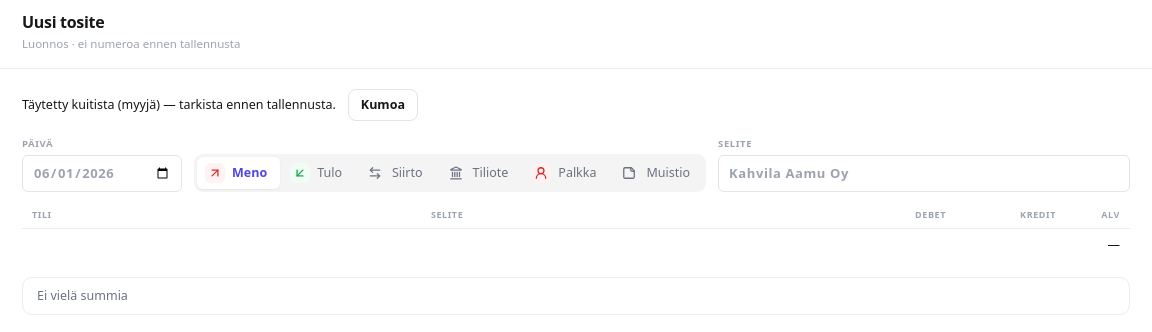
Scenario: TositeEditori — ulkoinen täyttö (kuitti) › täyttää lomakkeen, näyttää ilmoituksen ja Kumoa palauttaa
This screenshot has width=1152, height=332.
Check: the field labelled "Selite" holds "Kahvila Aamu Oy", box [718,155,1130,192]
Check: the text "Täytetty kuitista (myyjä) — tarkista ennen tallennusta." is shown, box [22,96,336,114]
Click the button "Kumoa". click: [383, 105]
box: [348,89,418,121]
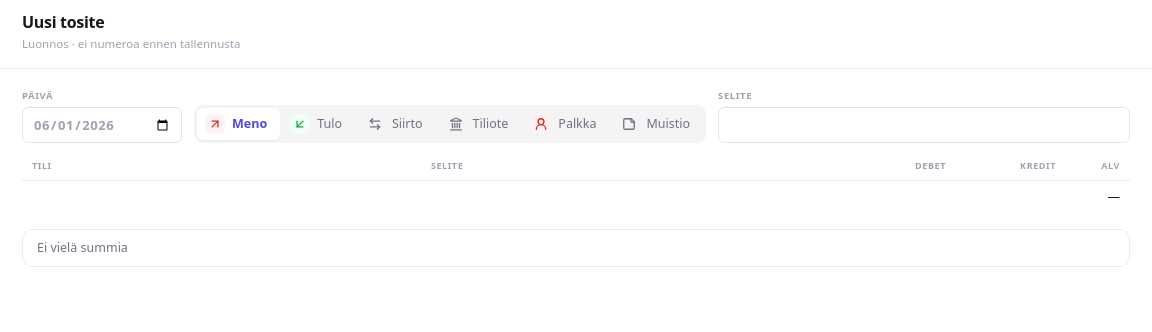
Check: the field labelled "Selite" is empty, box [718,107,1130,143]
Check: the text "Täytetty kuitista" is gone
